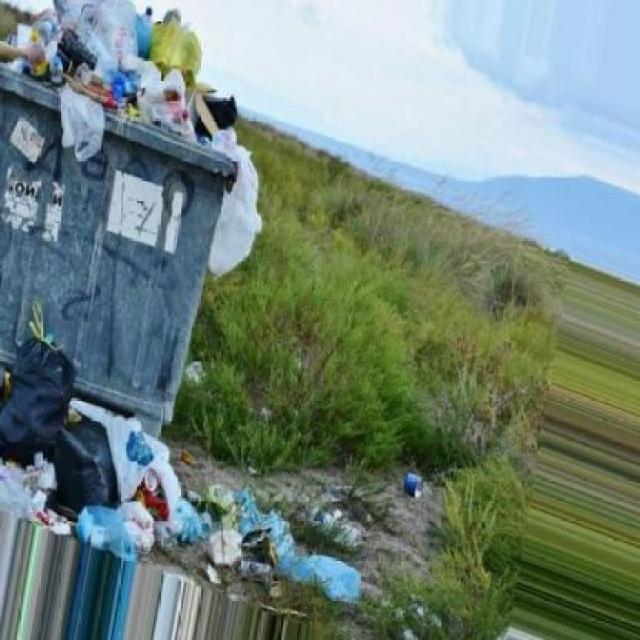garbage: (8, 345, 164, 548), (14, 9, 203, 120), (157, 473, 323, 583)
